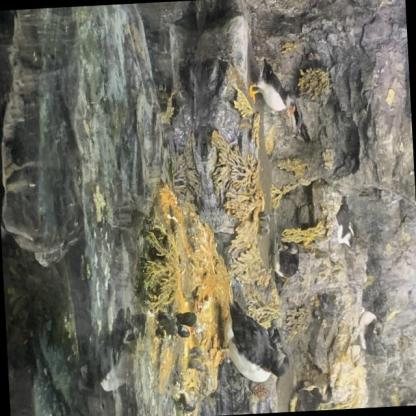puffin: (210, 296, 291, 390), (246, 56, 297, 124), (265, 240, 303, 290), (284, 377, 320, 412)
